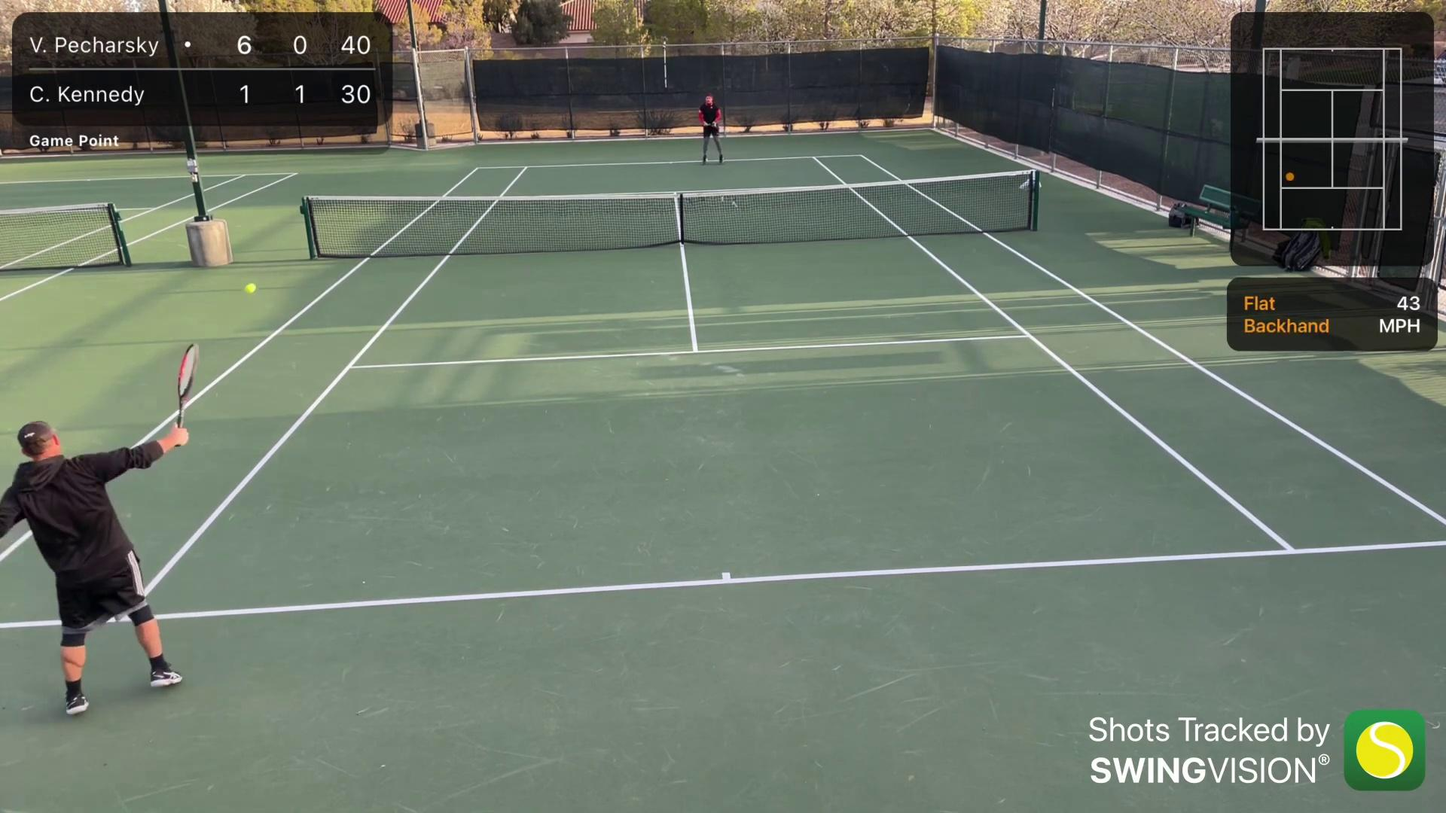ball: (241, 280, 258, 295)
